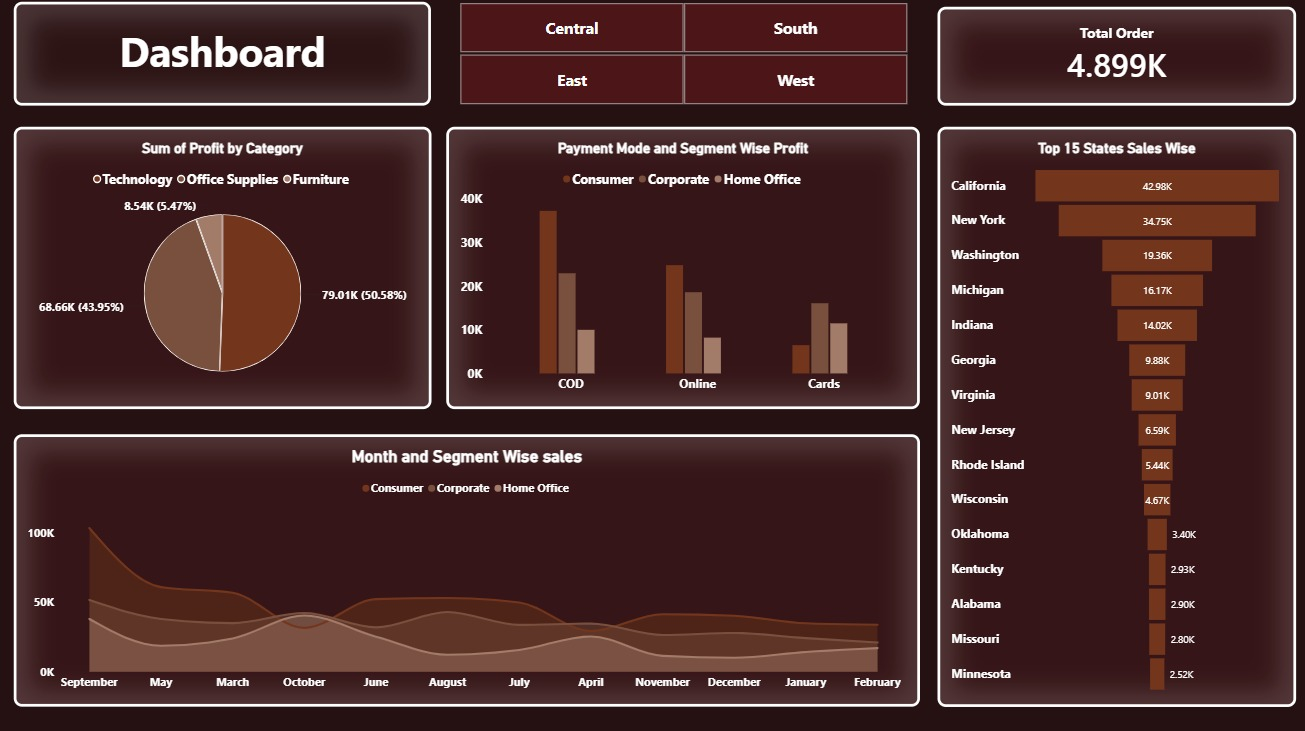

The dashboard page shown, as its layout file describes it:
{"tool":"powerbi","page":{"name":"Dashboard","canvas":[1920,1080],"ordinal":8},"visuals":[{"type":"clusteredColumnChart","title":"  Payment Mode and Segment  Wise Profit ","fields":{"Category":["Sheet1.Payment Mode"],"Series":["Sheet1.Segment"],"Y":["Sum(Sheet1.Profit)"]},"box":[667.8,200.9,685.9,409],"z":0},{"type":"areaChart","title":"Month and Segment Wise sales","fields":{"Category":["Sheet1.Month"],"Series":["Sheet1.Segment"],"Y":["Sum(Sheet1.Sales)"]},"box":[41.6,646,1312,394.5],"z":1000},{"type":"pieChart","fields":{"Category":["Sheet1.Category"],"Y":["Sum(Sheet1.Profit)"]},"box":[41.6,200.9,604.4,409],"z":2000},{"type":"funnel","title":"Top 15 States  Sales Wise","fields":{"Category":["Sheet1.State"],"Y":["Sum(Sheet1.Profit)"]},"box":[1379,200.9,519.4,839.7],"z":3000},{"type":"cardVisual","fields":{"Data":["CountNonNull(Sheet1.Order ID)"]},"box":[1379,27.1,519.4,143],"z":4000},{"type":"slicer","fields":{"Values":["Sheet1.Region"]},"box":[667.8,19.9,685.9,150.2],"z":5000},{"type":"textbox","box":[42,20,604,150],"z":6000},{"type":"textbox","box":[99.5,99.5,389.1,70.6],"z":7000},{"type":"textbox","box":[79.6,50.7,508.5,99.5],"z":8000},{"type":"textbox","box":[99.5,50.7,488.6,99.5],"z":9000}]}

Visuals, with their boxes in screenshot pixels (x1, y1, x2, y2), scaled from the page's 1920x1080 canvas onto the 1305x731 screenshot:
"  Payment Mode and Segment  Wise Profit " clusteredColumnChart: <region>454, 136, 920, 413</region>
"Month and Segment Wise sales" areaChart: <region>28, 437, 920, 704</region>
pieChart - Sheet1.Category x Sum(Sheet1.Profit): <region>28, 136, 439, 413</region>
"Top 15 States  Sales Wise" funnel: <region>937, 136, 1290, 704</region>
cardVisual - CountNonNull(Sheet1.Order ID): <region>937, 18, 1290, 115</region>
slicer - Sheet1.Region: <region>454, 13, 920, 115</region>
textbox: <region>29, 14, 439, 115</region>
textbox: <region>68, 67, 332, 115</region>
textbox: <region>54, 34, 400, 102</region>
textbox: <region>68, 34, 400, 102</region>
